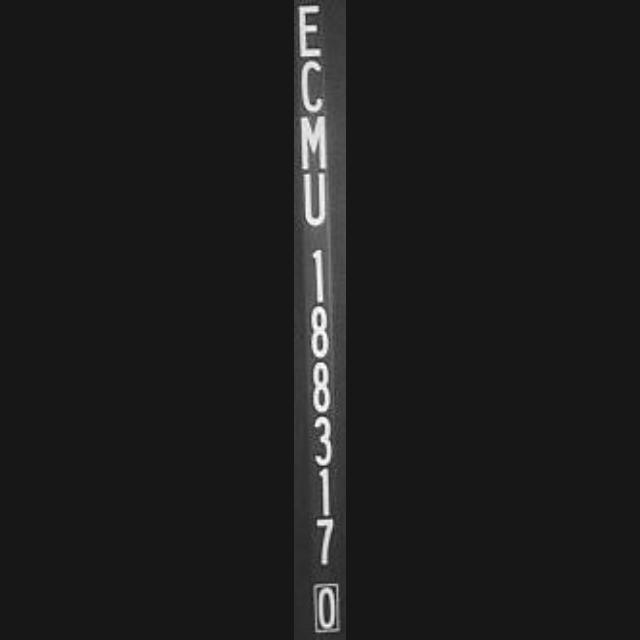0: (314, 580, 346, 638)
1: (298, 243, 338, 310), (305, 467, 341, 519)
3: (301, 412, 345, 468)
7: (312, 516, 341, 570)
8: (298, 299, 338, 361), (301, 361, 341, 421)
c: (294, 60, 336, 114)
e: (294, 0, 342, 64)
m: (294, 110, 340, 172)
u: (294, 172, 340, 232)
